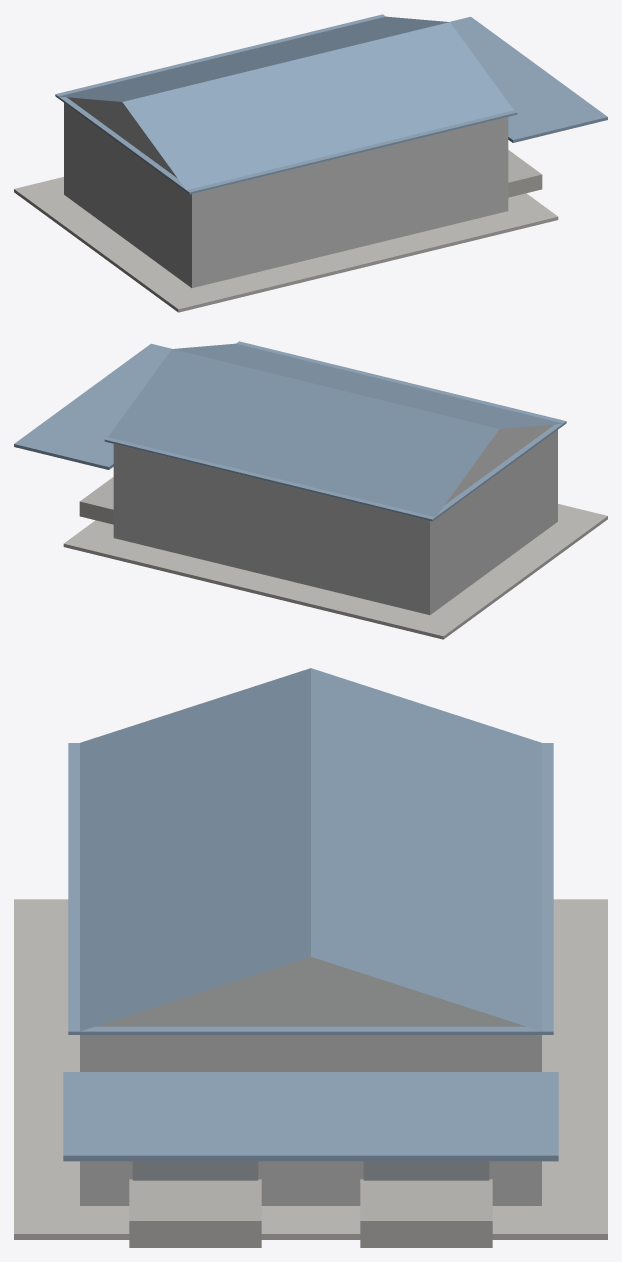
The model's file is 15_industrial_logistics-07.glb.
The picture shows the model from 3 angles, top to bottom: view 1: azimuth 30°, elevation 25°; view 2: azimuth 150°, elevation 25°; view 3: azimuth 270°, elevation 25°; orthographic projection. The views are drawn at different scales.
Size of the model in its own units: 28 by 8.7 by 18.
